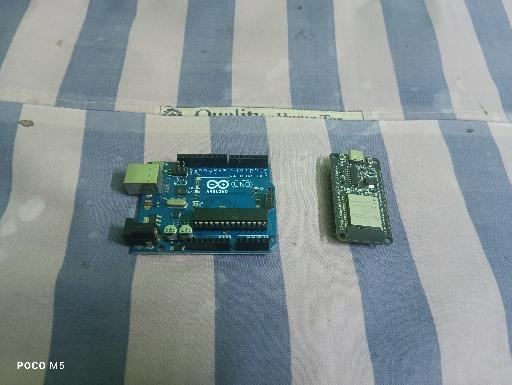Arduino: (123, 153, 277, 256)
Esp32: (329, 149, 393, 246)
